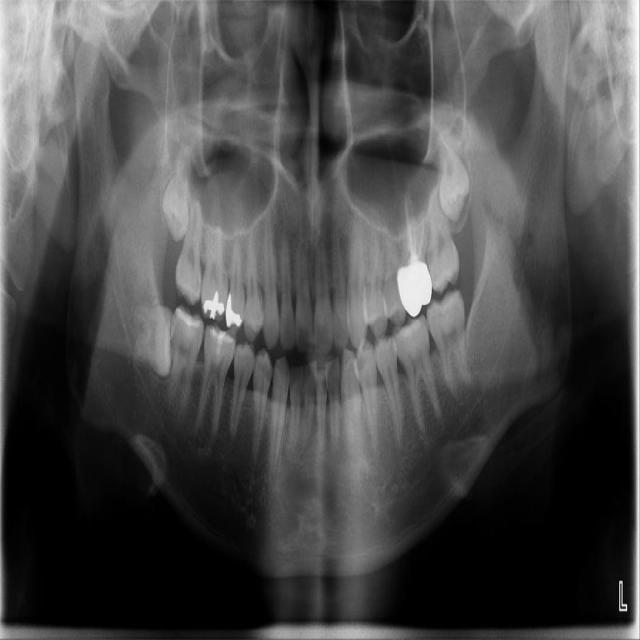3M ESPE Implant: (159, 148, 192, 241)
52: (396, 258, 434, 318), (198, 322, 240, 374), (199, 271, 230, 322), (225, 289, 247, 329)
73: (399, 189, 426, 267), (622, 617, 628, 622)
BioHorizons Implant: (428, 188, 459, 292)
BioLife Implant: (433, 140, 472, 224)
Blue Sky Bio Implant: (425, 288, 473, 403)
Caries: (174, 202, 203, 305)
Implant: (160, 305, 205, 419)
Keystone Dental Implant: (128, 302, 177, 378)
